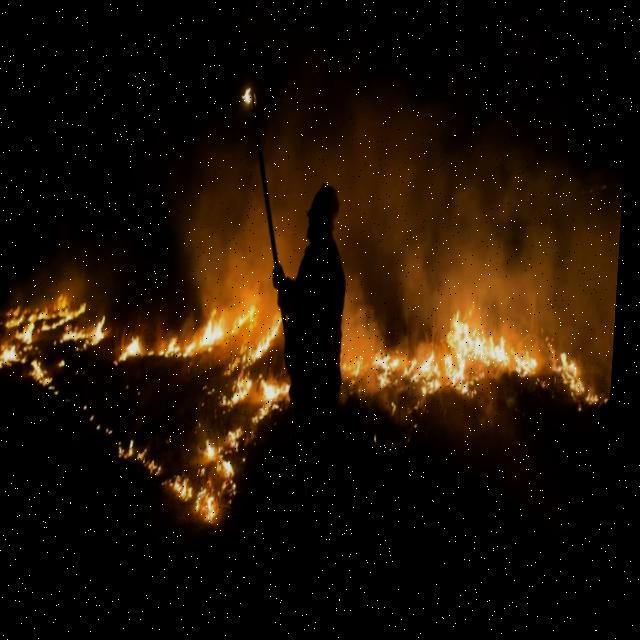Fire: (0, 290, 113, 408), (446, 314, 547, 423), (121, 304, 264, 372), (203, 436, 248, 530), (558, 362, 612, 437), (122, 440, 170, 488), (260, 382, 296, 434), (410, 367, 448, 415), (246, 332, 286, 377), (378, 360, 406, 405), (228, 380, 258, 420), (345, 360, 369, 396), (173, 480, 201, 510), (242, 93, 260, 118)
